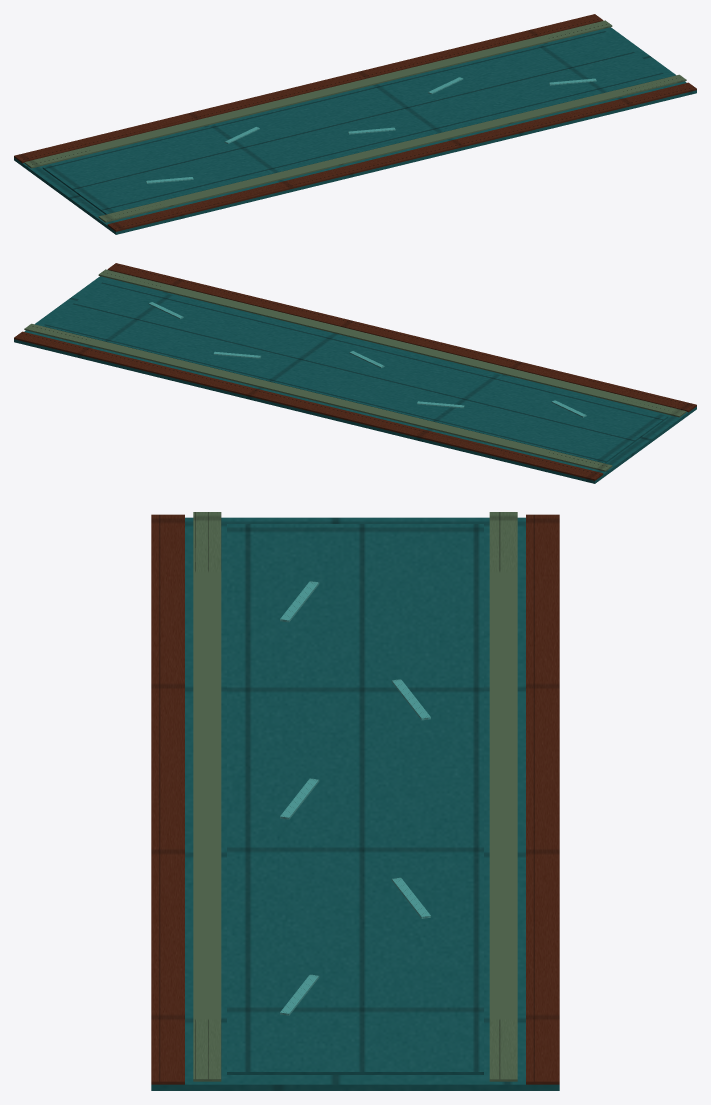
File: canal-segment-flowing.e9.glb
3 renders of one model, top to bottom at view 1: azimuth 30°, elevation 25°; view 2: azimuth 150°, elevation 25°; view 3: azimuth 270°, elevation 25°, orthographic. The views are drawn at different scales.
Visible parts, largest first — view 1: CanalSegmentFlowingE9; view 2: CanalSegmentFlowingE9; view 3: CanalSegmentFlowingE9.
Part boxes in pixels (<box>): CanalSegmentFlowingE9: <box>14,14,696,234</box>; CanalSegmentFlowingE9: <box>14,263,696,483</box>; CanalSegmentFlowingE9: <box>151,512,559,1090</box>.
Size of the model in its own units: 4.8 by 0.046 by 1.46.
Materials: 1 (1 with a texture image).
